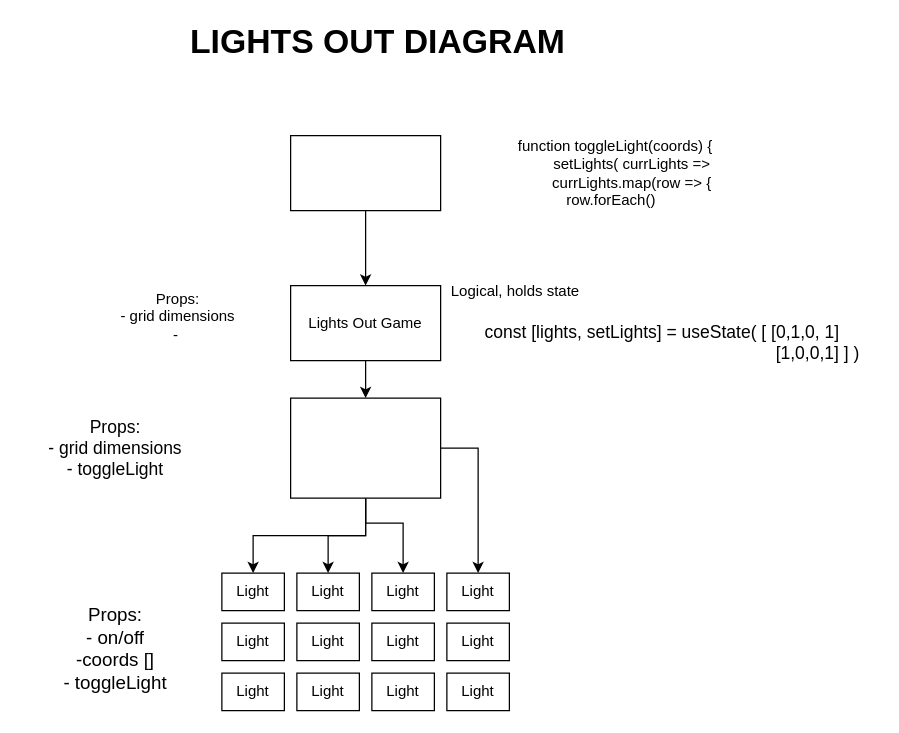
The diagram is 899 pixels wide and 733 high, and some of its shapes have lost their labels. Here are the shapes that lost their labels. From the top down, the box of each, then its label:
(289, 134, 441, 211): App
(289, 397, 441, 498): LightGrid
